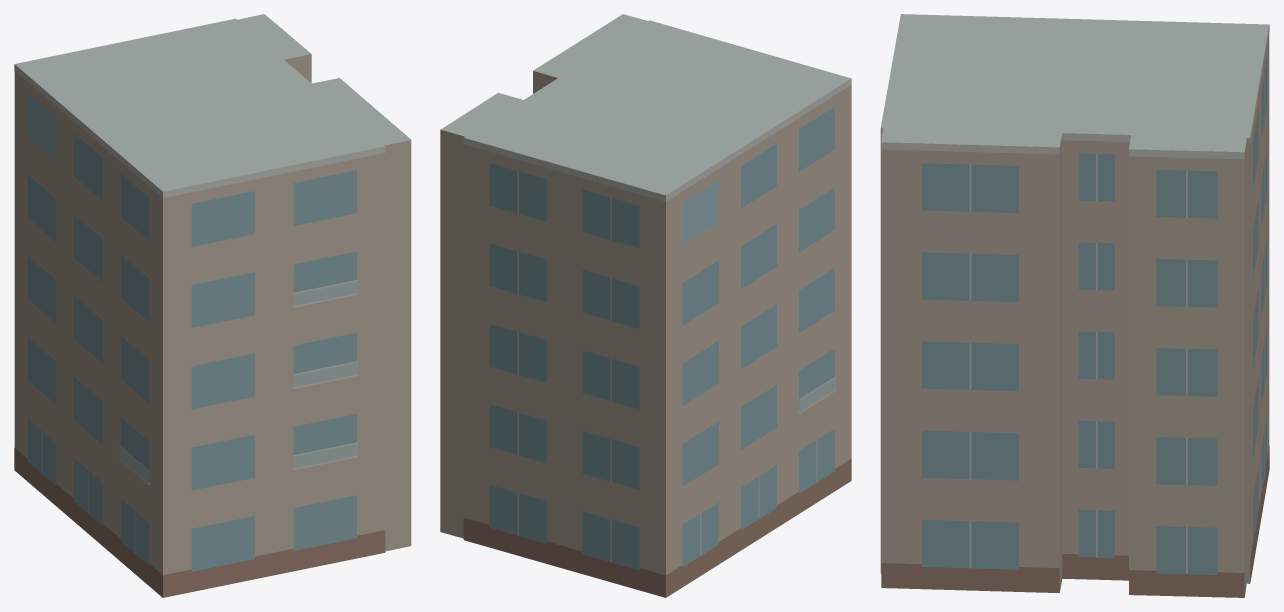
The model's file is survey-upis-32656016.glb.
3 renders of one model, left to right at view 1: azimuth 30°, elevation 25°; view 2: azimuth 150°, elevation 25°; view 3: azimuth 270°, elevation 25°, orthographic. The views are drawn at different scales.
Parts seen in each view (by area): view 1: survey-upis-32656016.tmp; view 2: survey-upis-32656016.tmp; view 3: survey-upis-32656016.tmp.
Part boxes in pixels (x1=…): survey-upis-32656016.tmp: x1=14, y1=14, x2=411, y2=597; survey-upis-32656016.tmp: x1=440, y1=14, x2=851, y2=597; survey-upis-32656016.tmp: x1=880, y1=14, x2=1269, y2=597.
Size of the model in its own units: 10.19 by 15.3 by 12.11.
